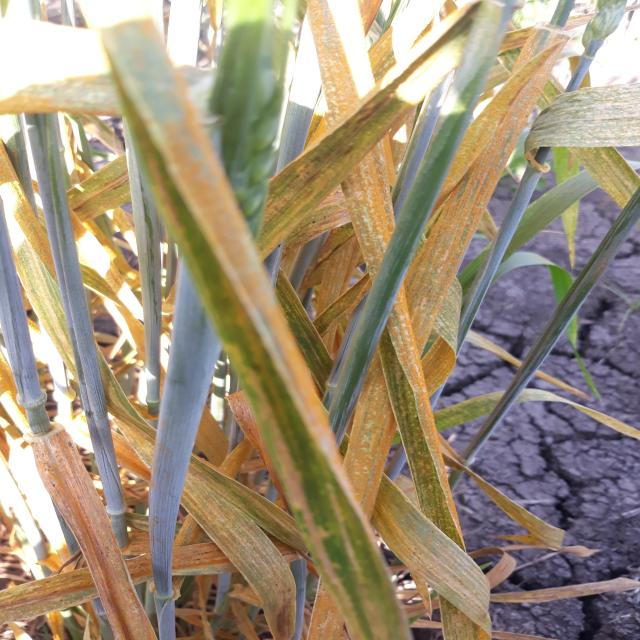yellow_rust: (0, 397, 635, 640), (281, 2, 640, 406), (4, 0, 209, 397), (184, 212, 316, 392)
